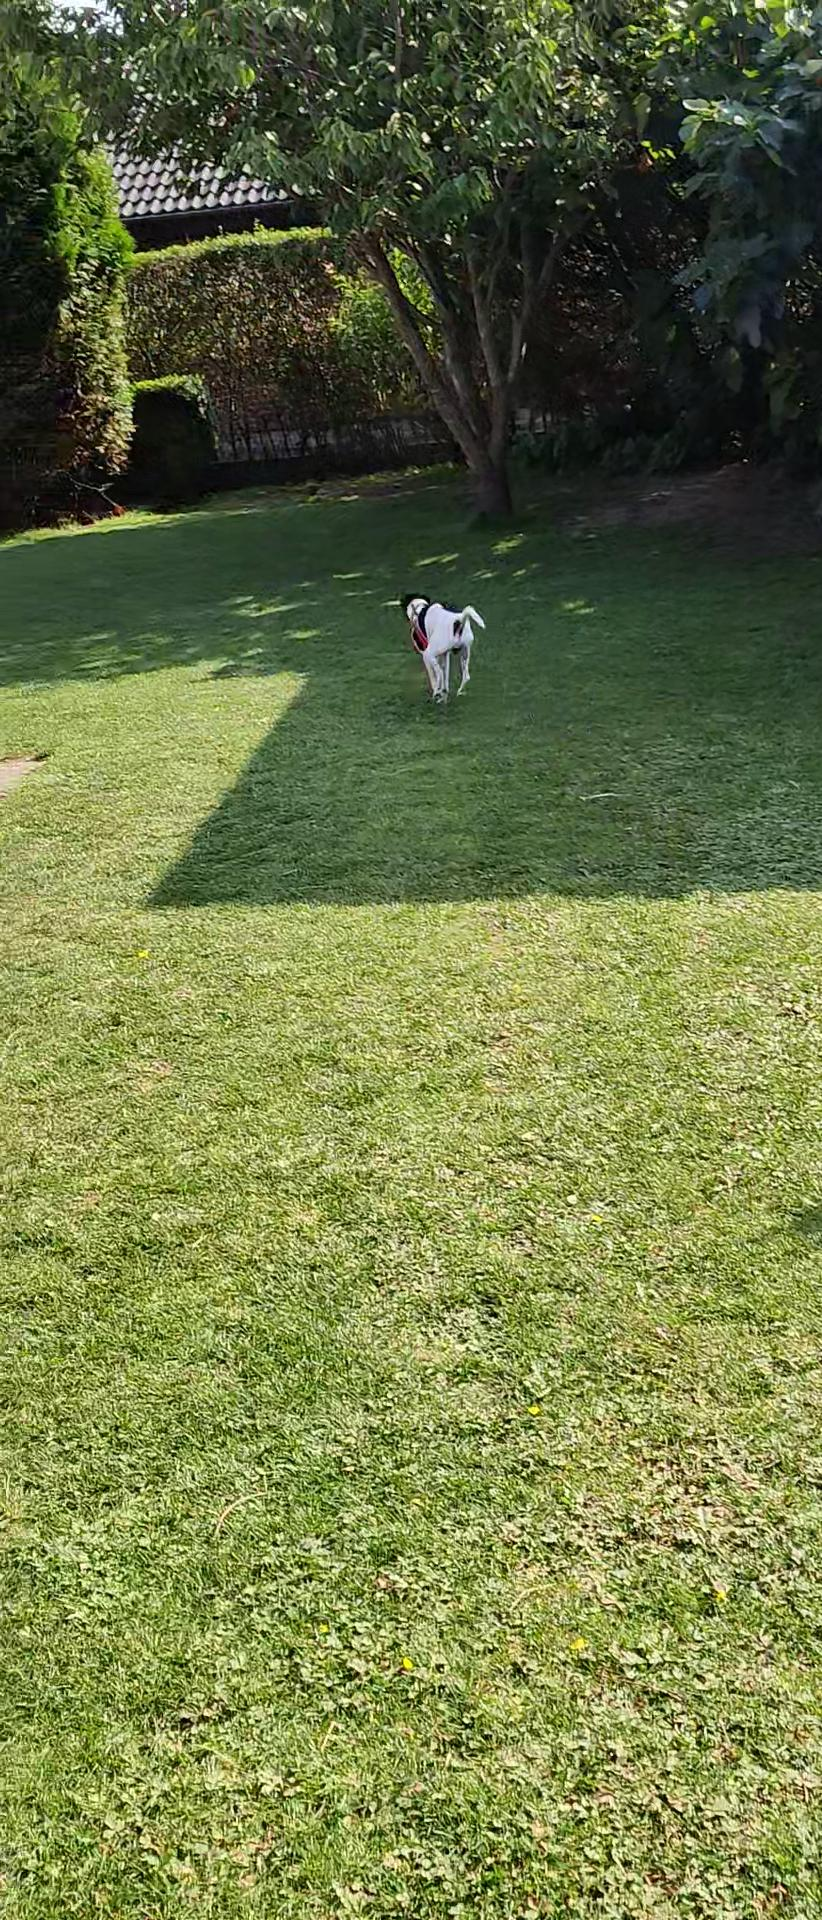Dog: (387, 579, 492, 716)
